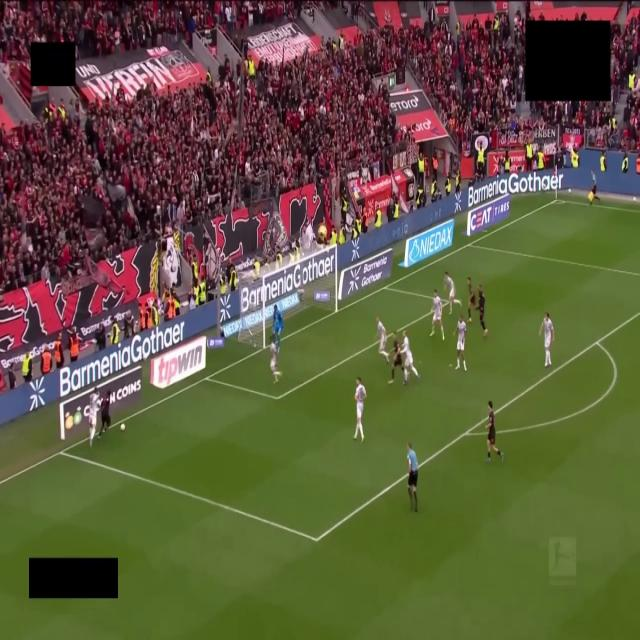ball: (120, 424, 125, 431)
player: (487, 401, 503, 462), (401, 331, 419, 383), (539, 313, 554, 367), (354, 377, 366, 441), (444, 272, 461, 314), (389, 333, 403, 383), (430, 290, 444, 340), (98, 389, 111, 439), (89, 389, 100, 446), (456, 314, 466, 371), (477, 285, 487, 336), (272, 305, 283, 351), (377, 318, 388, 363), (270, 336, 280, 382), (468, 278, 475, 323)
referee: (408, 443, 418, 512)
